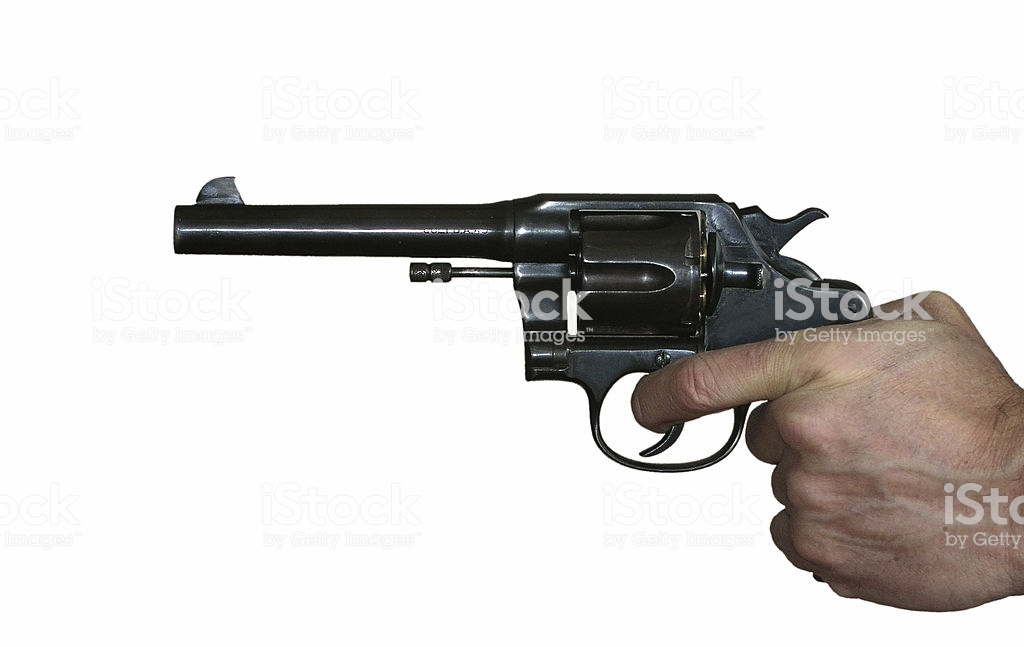Revolver: (129, 144, 903, 487)
